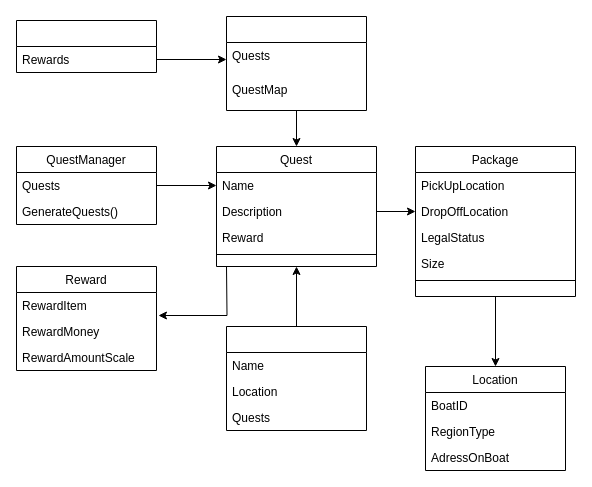
Image size: 592x487. Some labels were removed from this diagram. The box of each missing label's shape, as (x1, y1, x2, y2) in pixels:
Player: (16, 20, 156, 72)
QuestGiver: (226, 326, 366, 430)
QuestInventory: (226, 16, 366, 110)
